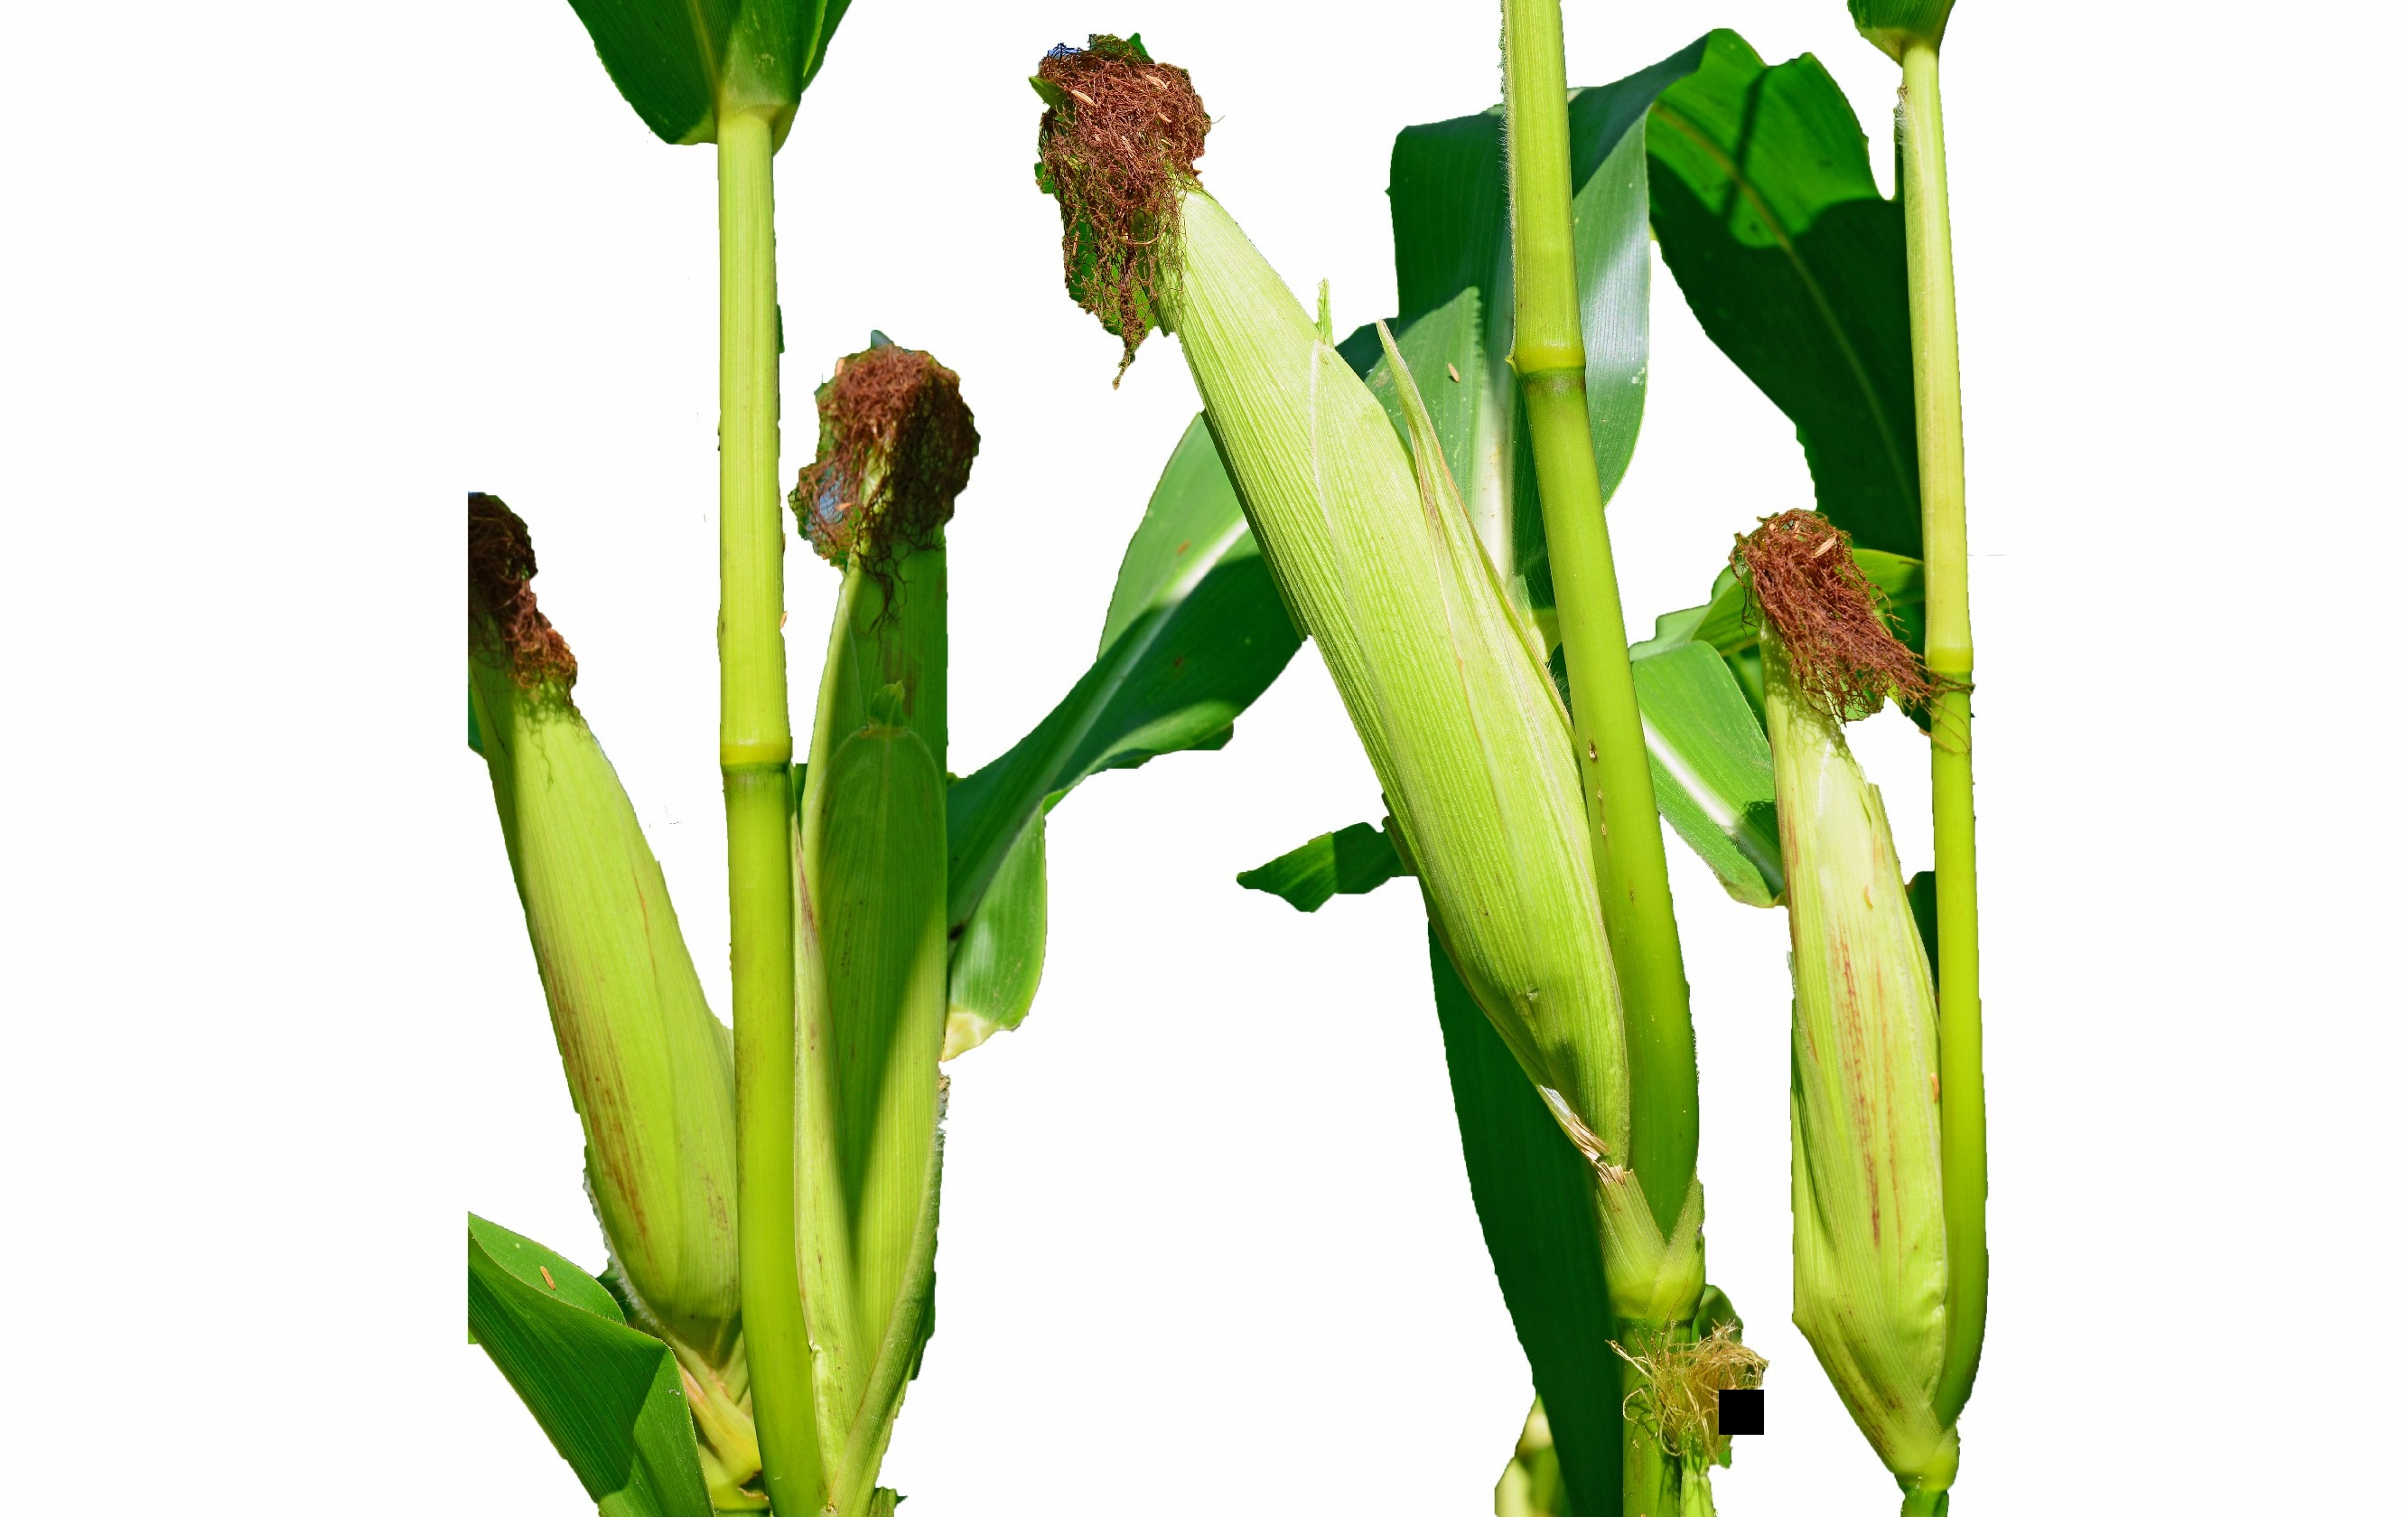corn_plant: (1030, 10, 1699, 1297), (1715, 495, 2020, 1491), (471, 489, 772, 1445), (789, 341, 1013, 1515)
